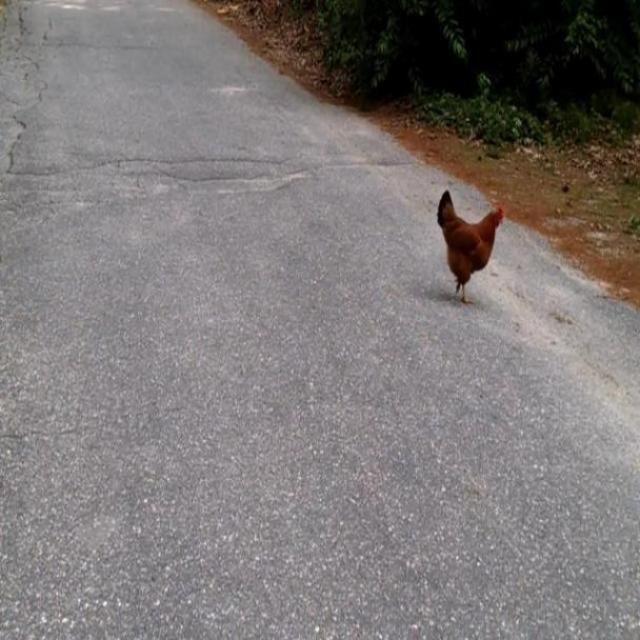Chicken: (436, 189, 504, 308)
